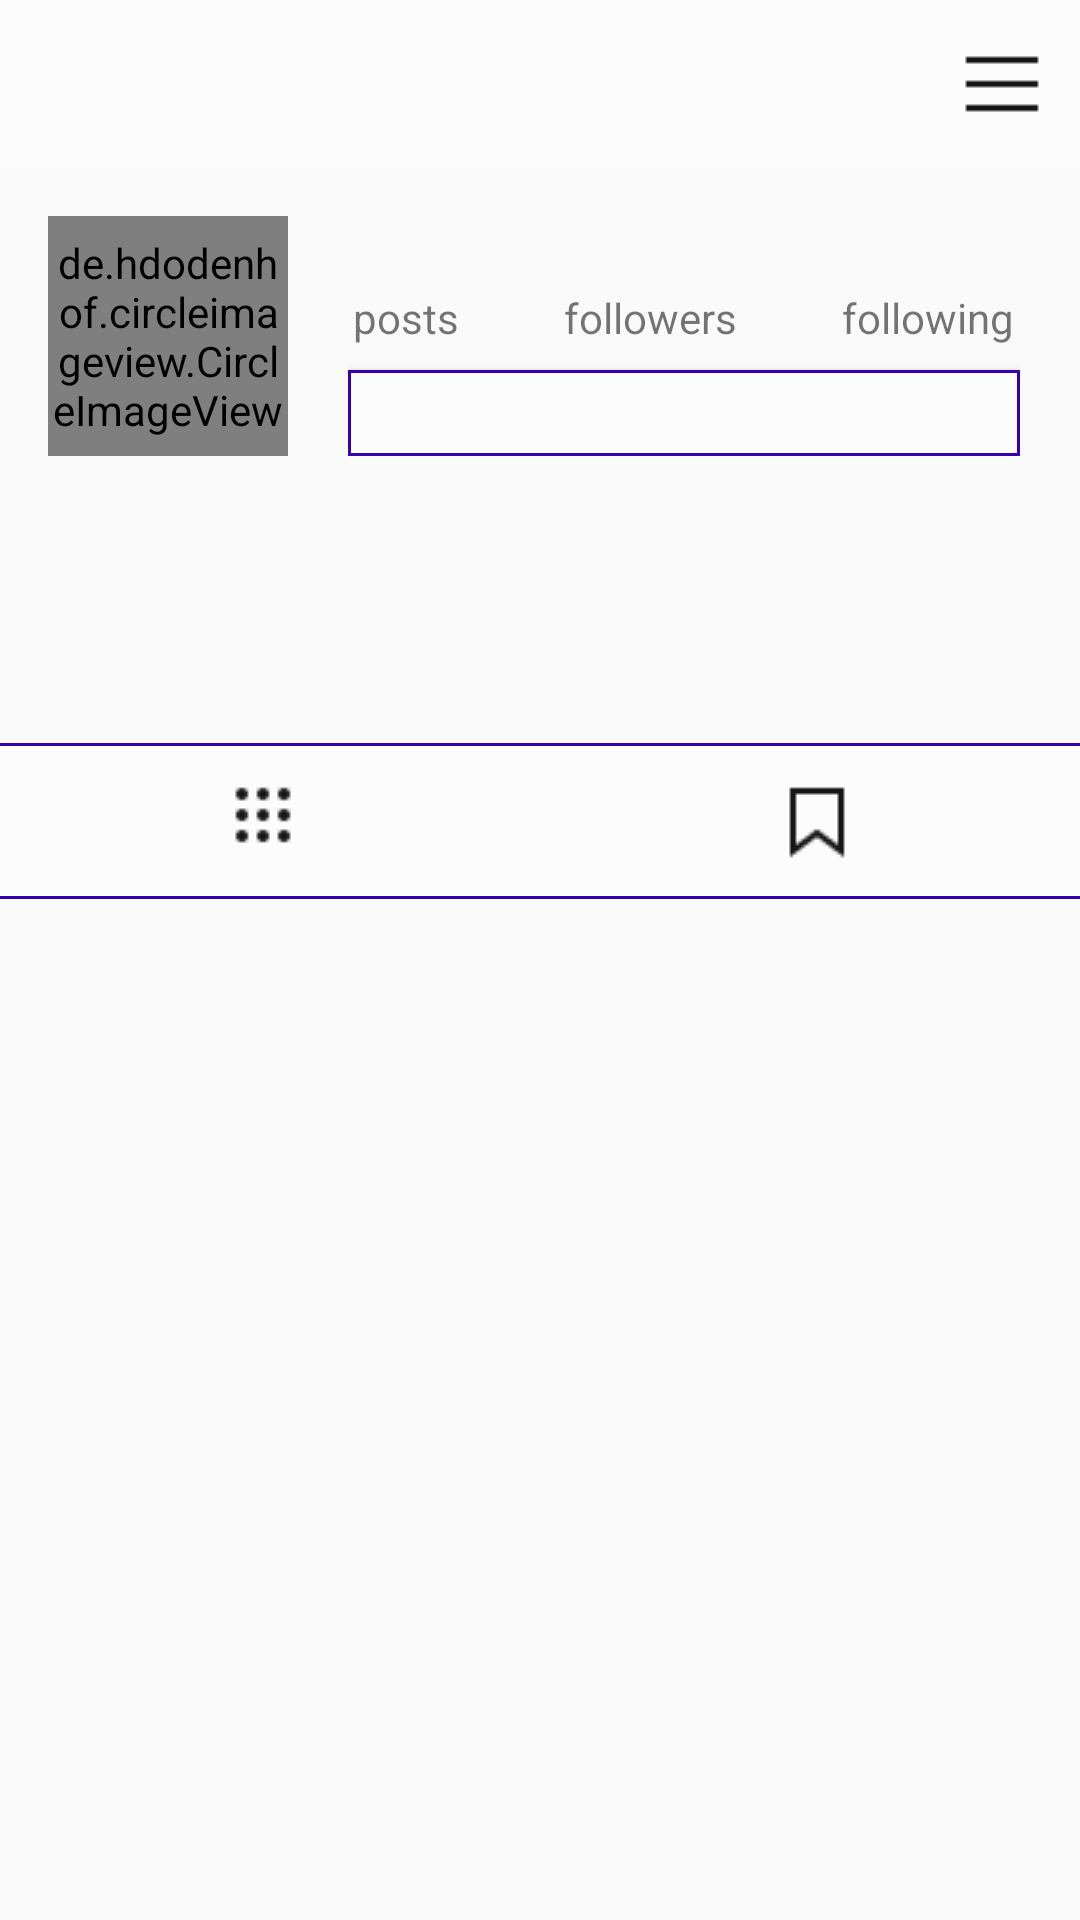

Named icons in this screenshot (1080x1920) and their bounding boxes, (x1, y1, x2, y2):
option: (965, 56, 1039, 112)
